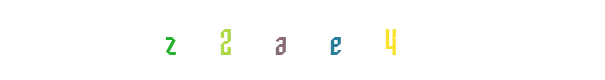2: (239, 0, 319, 80)
4: (295, 0, 375, 80)
A: (262, 0, 342, 80)
E: (266, 0, 346, 80)
Z: (130, 0, 210, 80)
